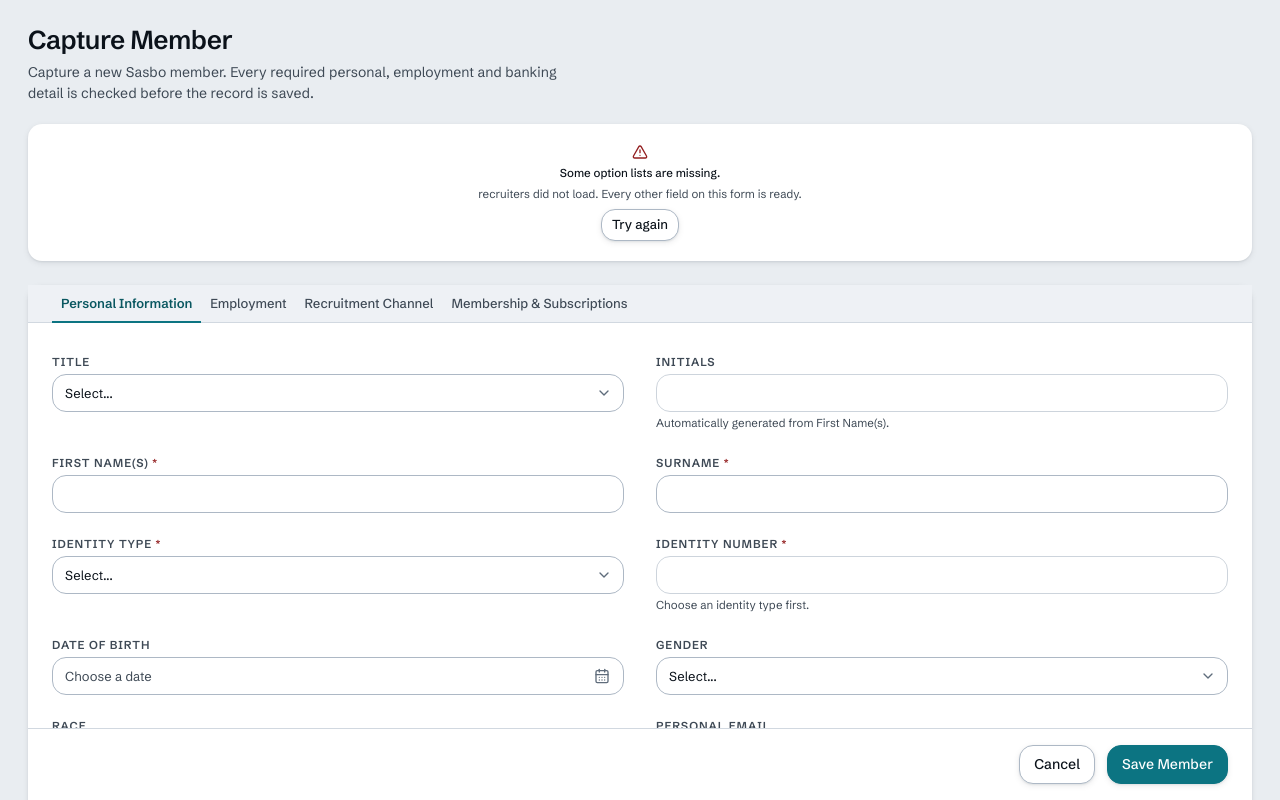
Capture Member, when a list it offers failed › says so at Recruiter, and only there
The image size is (1280, 800).
What coordinates should you click on to do the following:
click the button "Recruitment Channel"
I would click on:
 (369, 304)
Its box is left=296, top=284, right=442, bottom=323.
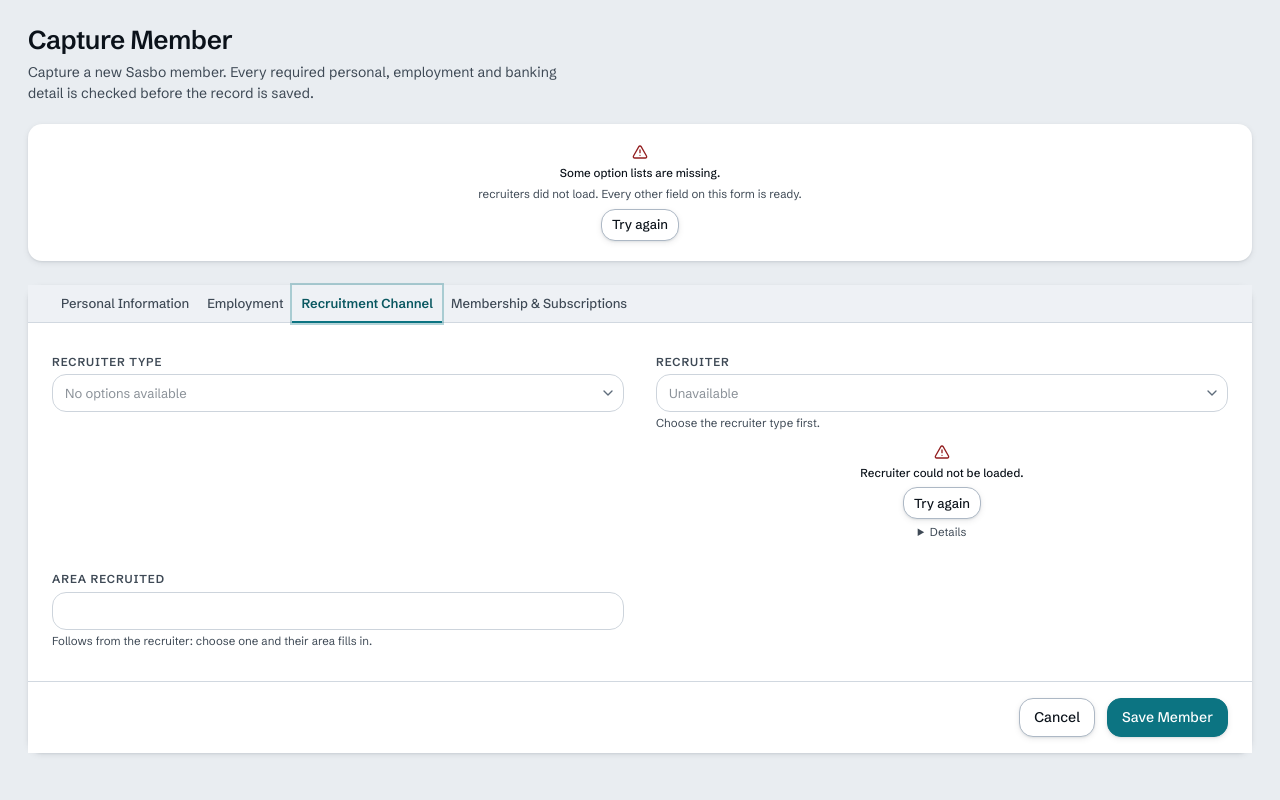
Expected: the text "Recruiter could not be loaded." is shown once, left=860, top=466, right=1024, bottom=481
